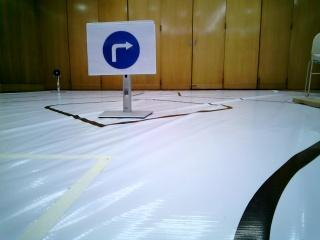right: (85, 20, 157, 75)
